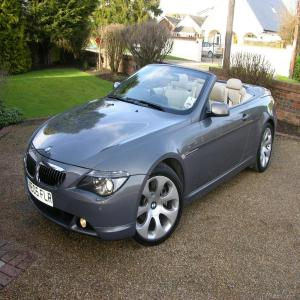Vehicle-registration-plate: (28, 176, 54, 207)
